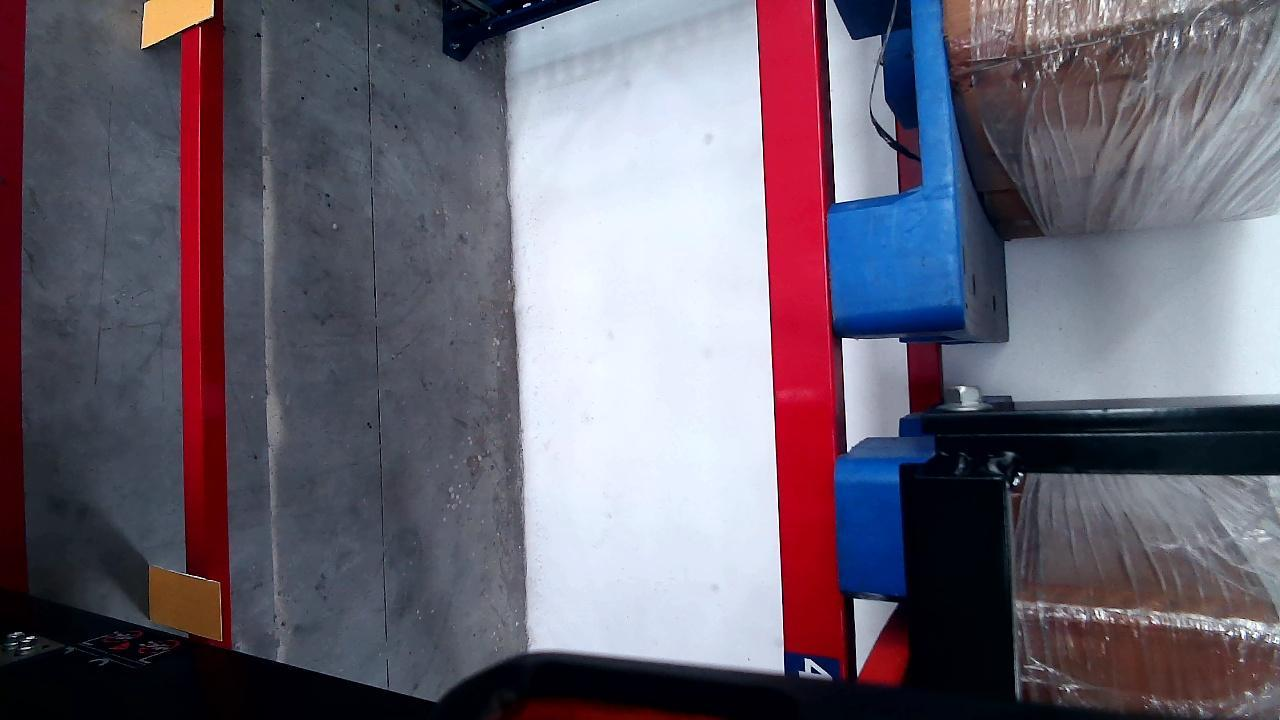red_line: (0, 2, 29, 589)
